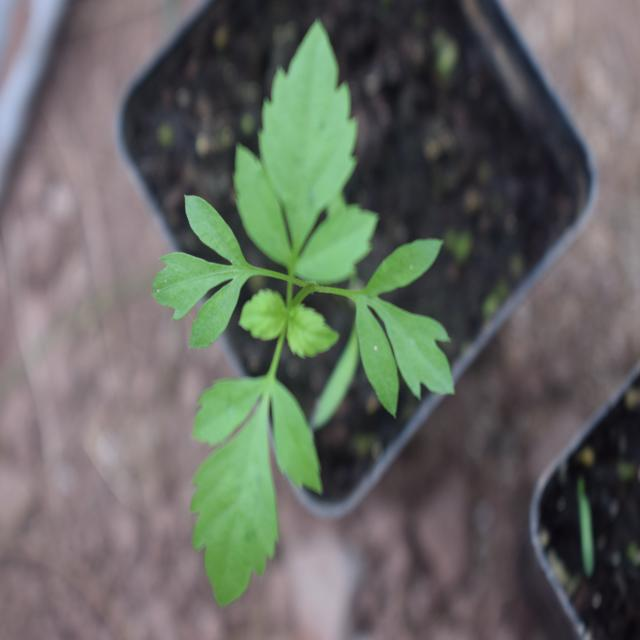Bidens pilosa: (143, 22, 445, 596)
